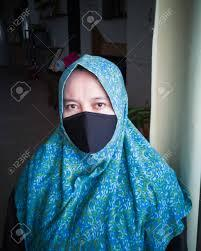Wearing Mask: (44, 35, 141, 163)
